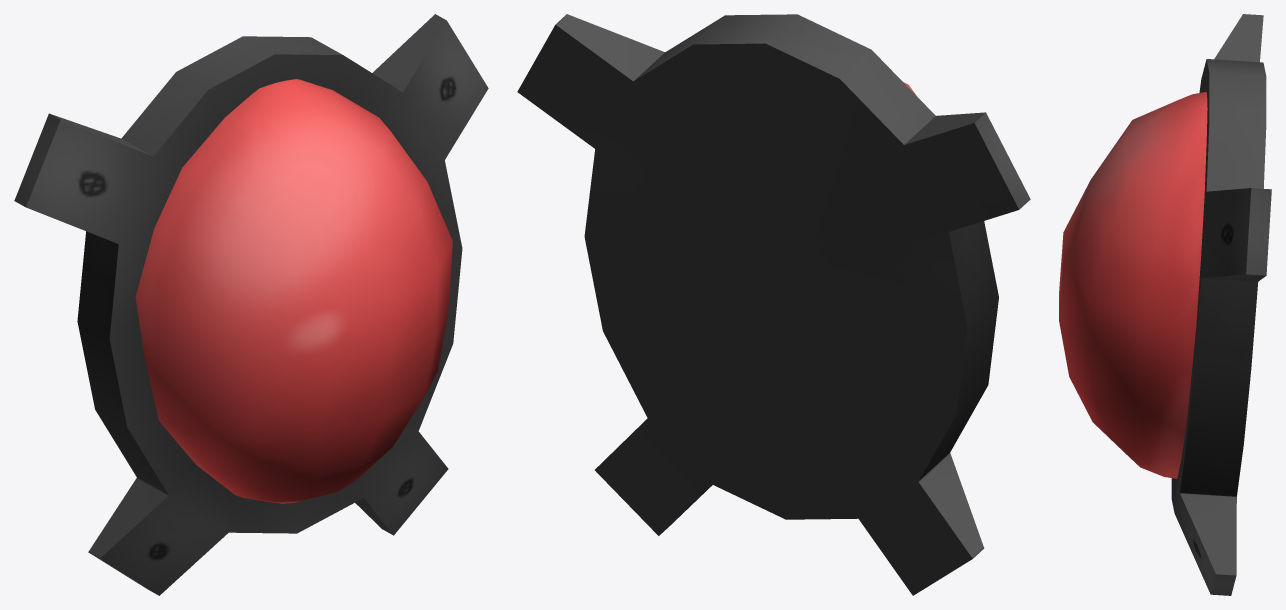
Rendered from dragonGlassEmblem_mesh.fbx.
3 renders of one model, left to right at view 1: azimuth 30°, elevation 25°; view 2: azimuth 150°, elevation 25°; view 3: azimuth 270°, elevation 25°, orthographic. The views are drawn at different scales.
Visible parts, largest first — view 1: dragonGlassEmblem; view 2: dragonGlassEmblem; view 3: dragonGlassEmblem.
Boxes of the visible parts, x1=… form: dragonGlassEmblem: x1=14, y1=14, x2=488, y2=595; dragonGlassEmblem: x1=517, y1=14, x2=1030, y2=595; dragonGlassEmblem: x1=1059, y1=14, x2=1271, y2=595.
Size of the model in its own units: 9.32 by 9.75 by 4.
